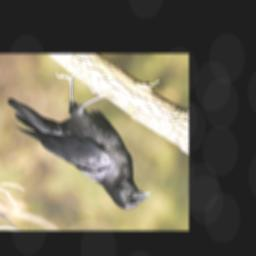Crow: (7, 69, 154, 211)
